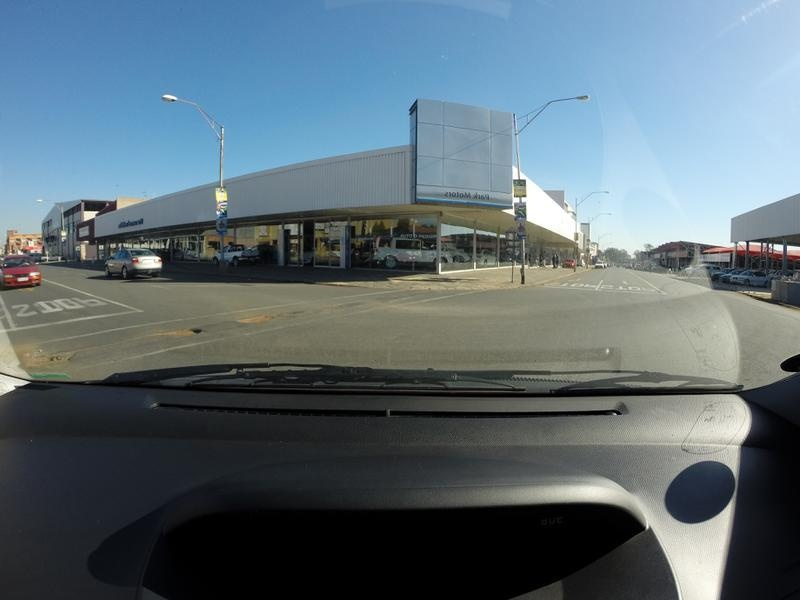pothole: (221, 297, 278, 334), (23, 341, 80, 373), (156, 317, 203, 342)
